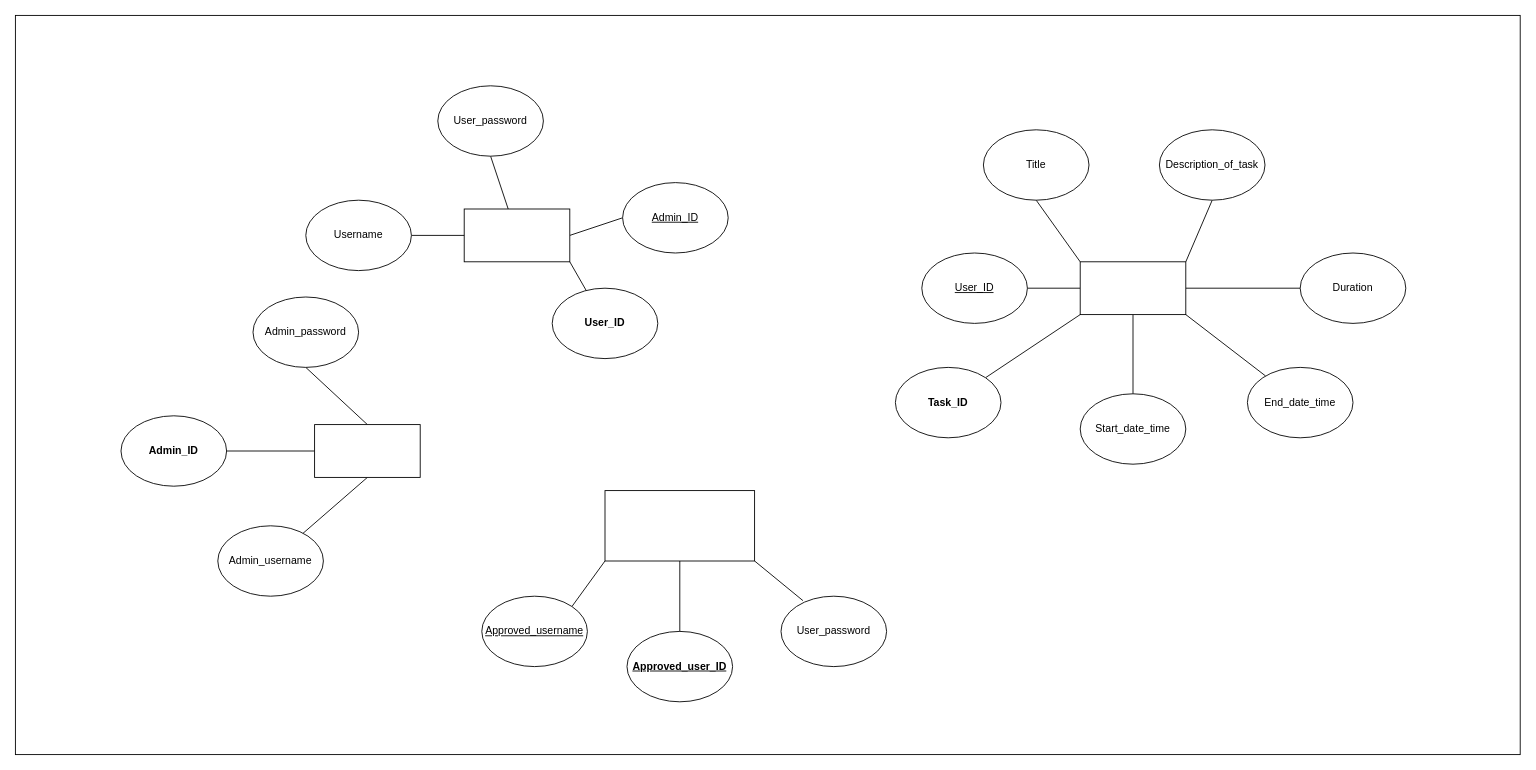
Some shapes in this 1536 by 770 pixel diagram are drawn without their labels. Each missing label, with the centre of its shape:
admin_account: (367,450)
approved_user_account: (679,525)
new_user_account: (516,235)
task: (1132,288)
